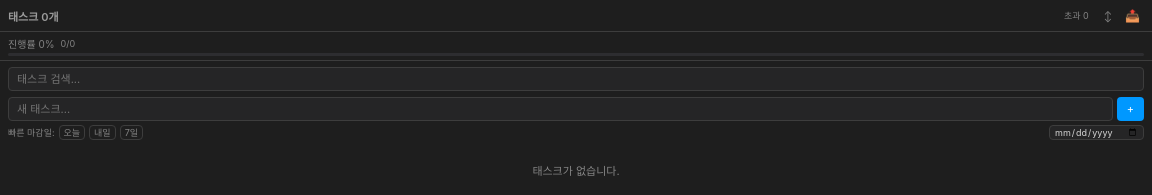
it: TasksPanel › 태스크 추가 시 목록에 표시된다
Type "첫 번째 태스크" into the field with placeholder "새 태스크..." at point(560, 109), box top-left (8, 97), bottom-right (1113, 121)
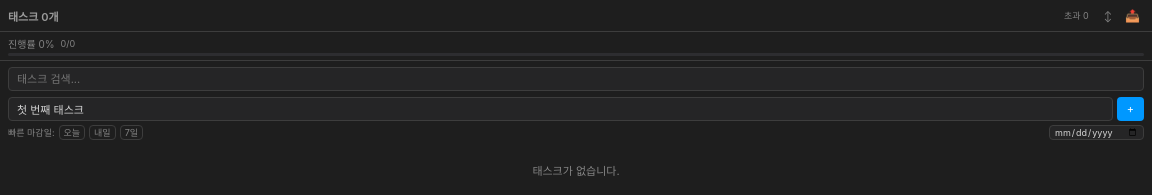
Press Enter in the field with placeholder "새 태스크...", box top-left (8, 97), bottom-right (1113, 121)
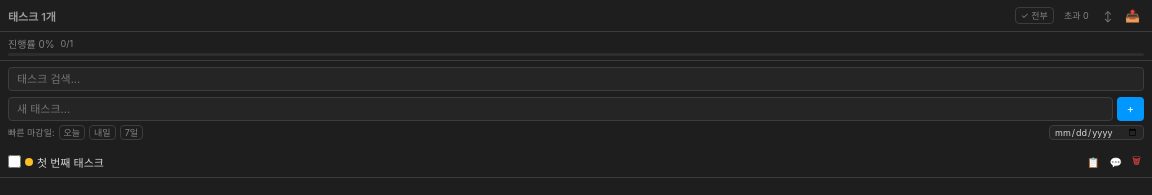
Expected: the text "첫 번째 태스크" is shown, top-left (37, 156), bottom-right (104, 170)
Expected: the text "태스크 1개" is shown, top-left (8, 10), bottom-right (56, 24)
